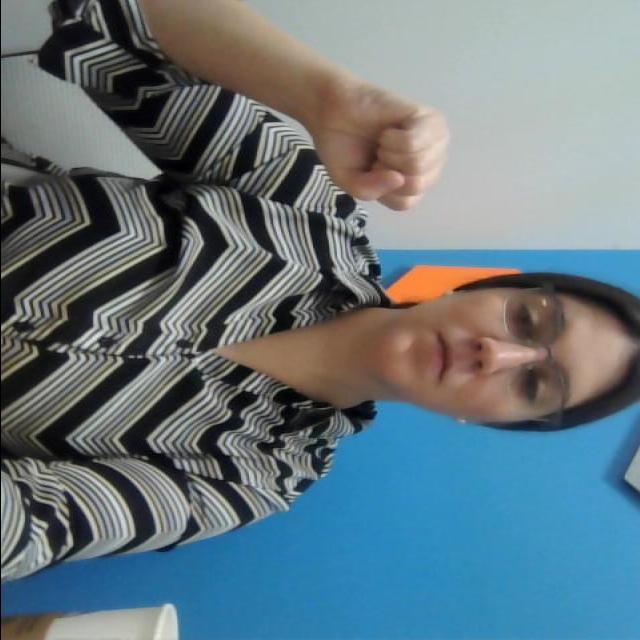Rock: (322, 86, 454, 217)
